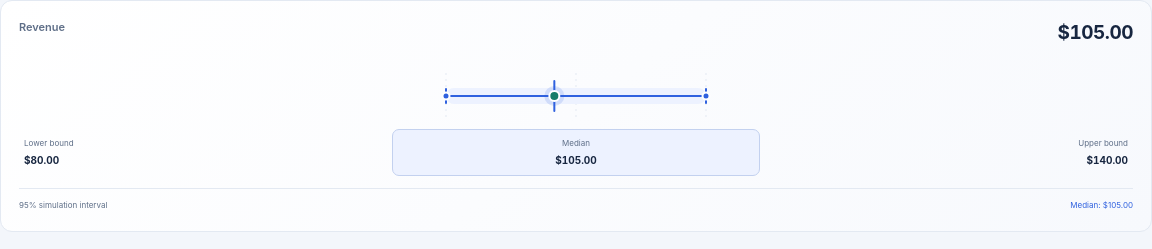
Test: interval controls expose exact supplied bounds by keyboard without inventing samples
Press Tab
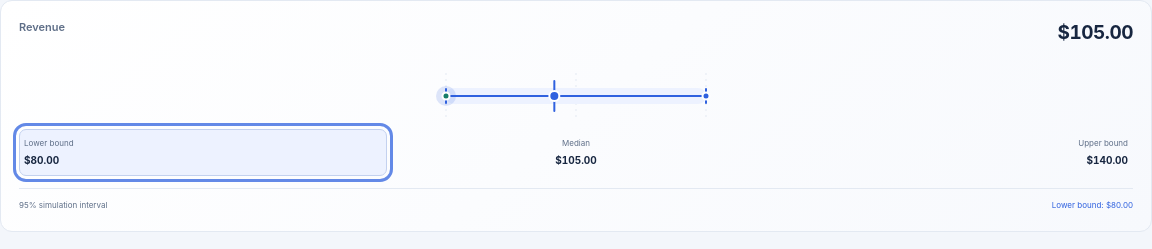
Press Enter
Now the text "Lower bound: $80.00" is shown, box top-left (1052, 199), bottom-right (1133, 213)
Click the button with aria-label "Revenue upper bound": (1103, 142) top-left (765, 128), bottom-right (1133, 176)
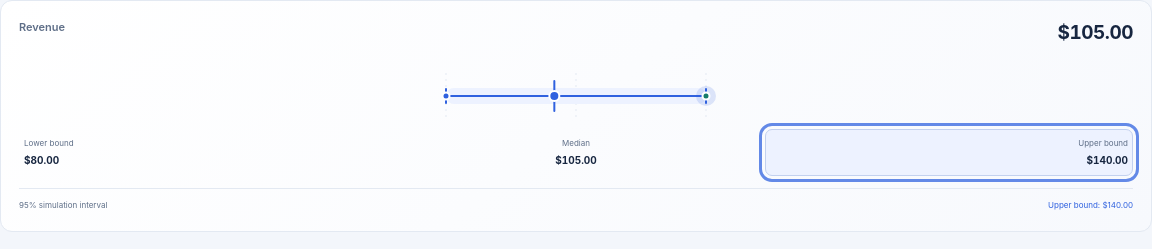
Expected: the text "95% simulation interval" is shown, top-left (19, 199), bottom-right (107, 213)
Now the text "Upper bound: $140.00" is shown, box top-left (1048, 199), bottom-right (1133, 213)
